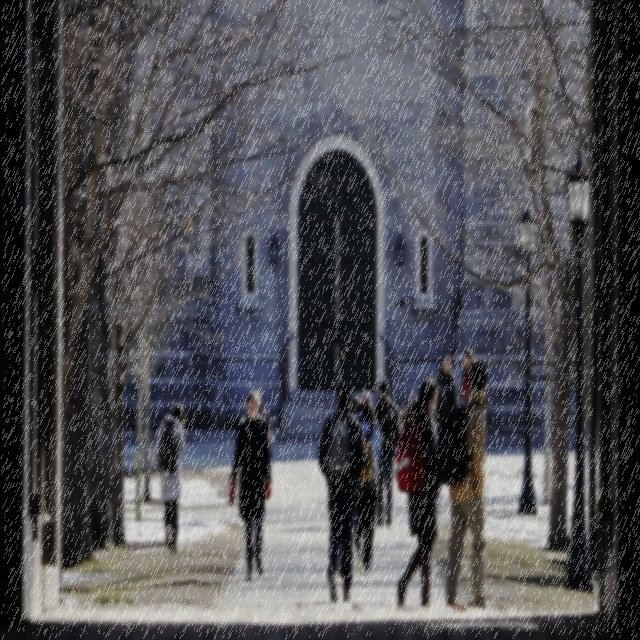pessoa: (436, 359, 494, 616), (317, 378, 369, 603), (396, 377, 440, 610), (230, 389, 272, 578), (353, 389, 382, 578), (154, 401, 188, 554), (372, 378, 400, 531), (434, 352, 458, 428), (252, 388, 275, 460), (462, 347, 476, 377), (349, 396, 362, 414)
